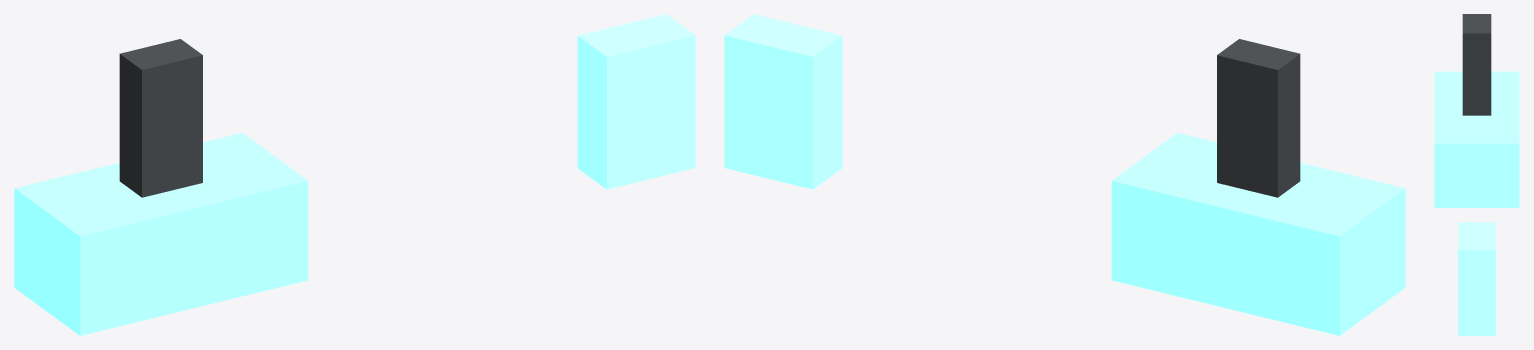
Rendered from console_props.glb.
3 renders of one model, left to right at view 1: azimuth 30°, elevation 25°; view 2: azimuth 150°, elevation 25°; view 3: azimuth 270°, elevation 25°, orthographic. The views are drawn at different scales.
Parts seen in each view (by area): view 1: radio_base, badge_reader, radio_handset; view 2: radio_base, badge_reader, radio_handset; view 3: radio_base, badge_reader, radio_handset.
Part boxes in pixels (box(x1,y1,x2,y2)): radio_base: box(14, 132, 308, 335); badge_reader: box(577, 14, 695, 189); radio_handset: box(119, 39, 202, 197); radio_base: box(1111, 132, 1405, 335); badge_reader: box(724, 14, 842, 189); radio_handset: box(1217, 39, 1300, 197); radio_base: box(1434, 71, 1519, 207); badge_reader: box(1458, 222, 1495, 335); radio_handset: box(1462, 14, 1491, 115).
Size of the model in its own units: 2 by 0.6925 by 0.36.
